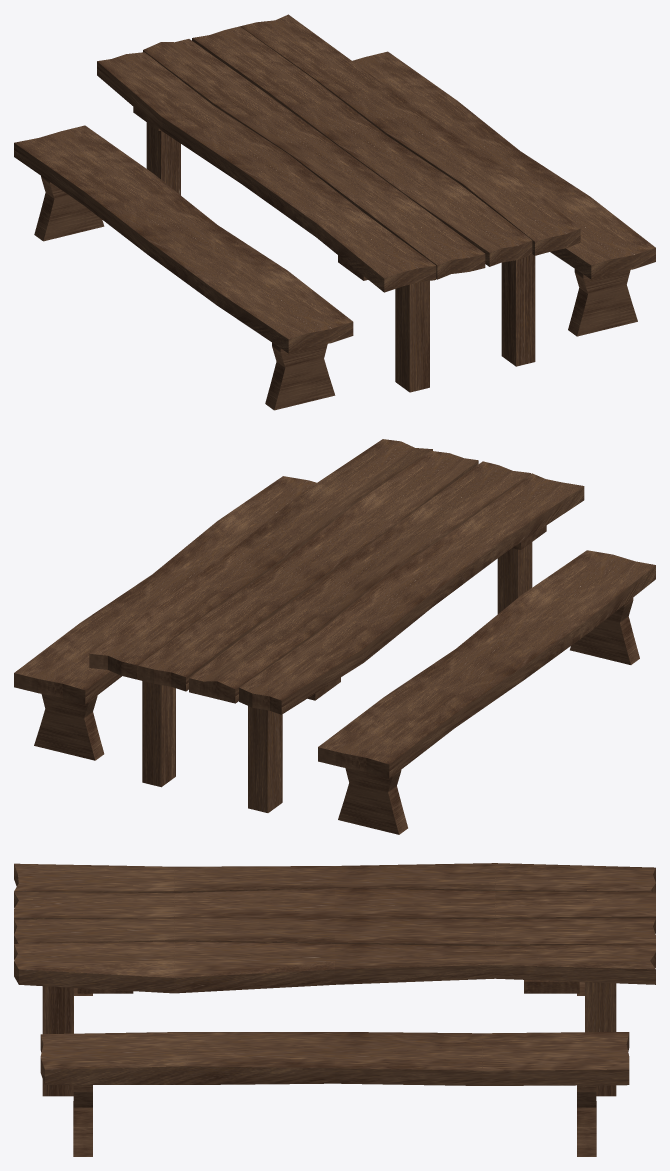
Rendered from longtable.fbx.
3 renders of one model, top to bottom at view 1: azimuth 30°, elevation 25°; view 2: azimuth 150°, elevation 25°; view 3: azimuth 270°, elevation 25°, orthographic. The views are drawn at different scales.
Parts seen in each view (by area): view 1: Tablelong; view 2: Tablelong; view 3: Tablelong.
Part boxes in pixels (x1,y1,x2,y2): Tablelong: (14,14,655,410); Tablelong: (14,439,655,834); Tablelong: (14,863,655,1156).
Bounding box in the file's own units: 210 × 73.09 × 285.
